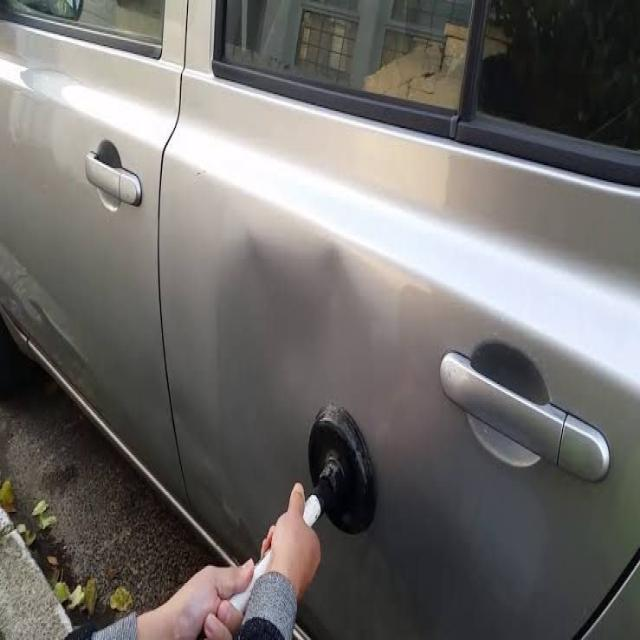dent: (210, 226, 395, 536)
